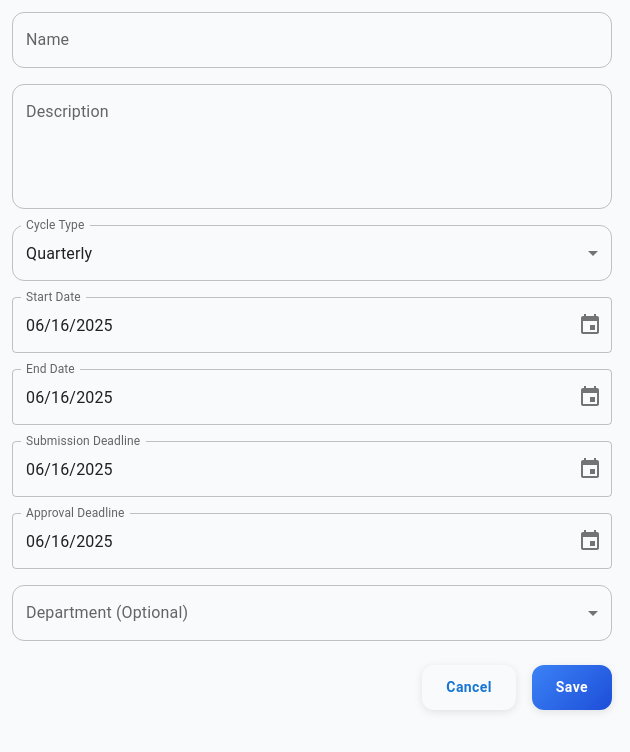
Test: ReviewCycleForm › shows validation errors when submitting empty form
The image size is (630, 752).
Focus the field labelled "Name" at (312, 40), box [12,12,612,68]
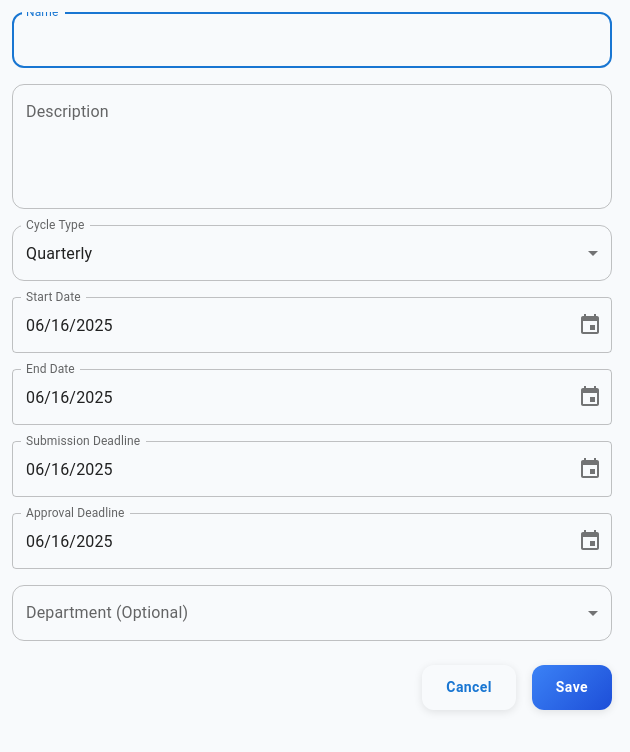
Leave the field labelled "Name", box [12,12,612,68]
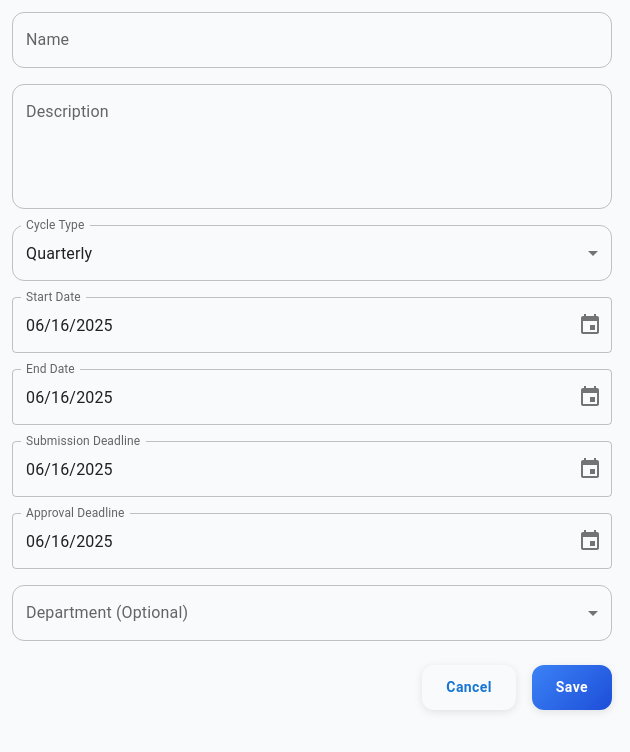
Focus the dropdown named "cycle type" at (59, 253), box [26,244,92,262]
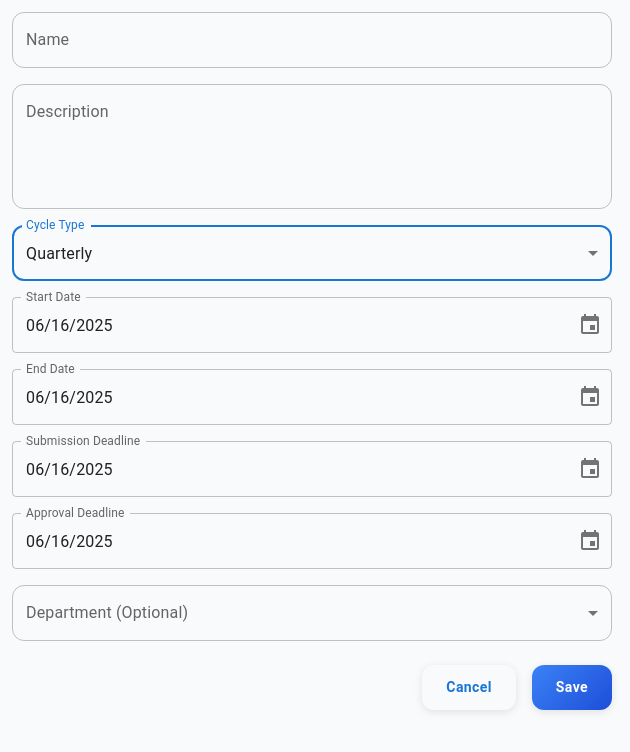
Leave the dropdown named "cycle type", box [26,244,92,262]
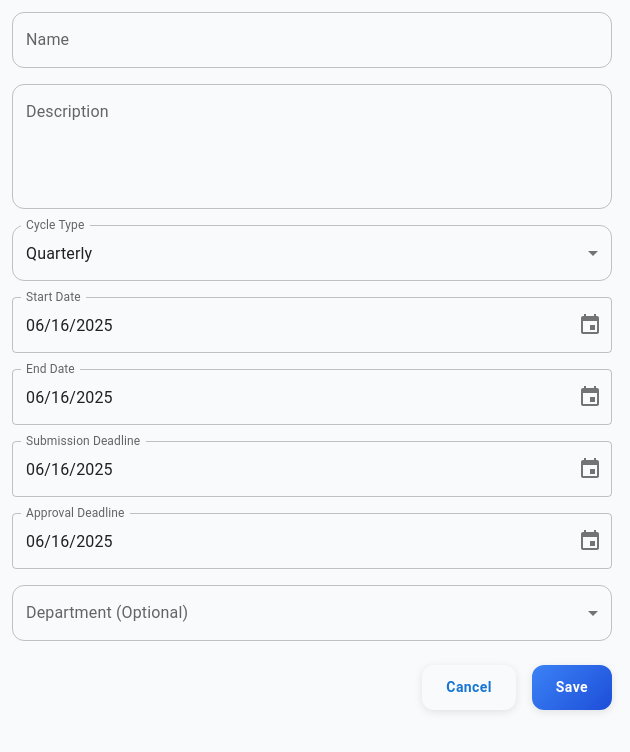
Click the button "Save".
click(572, 687)  # box [532,665,612,710]
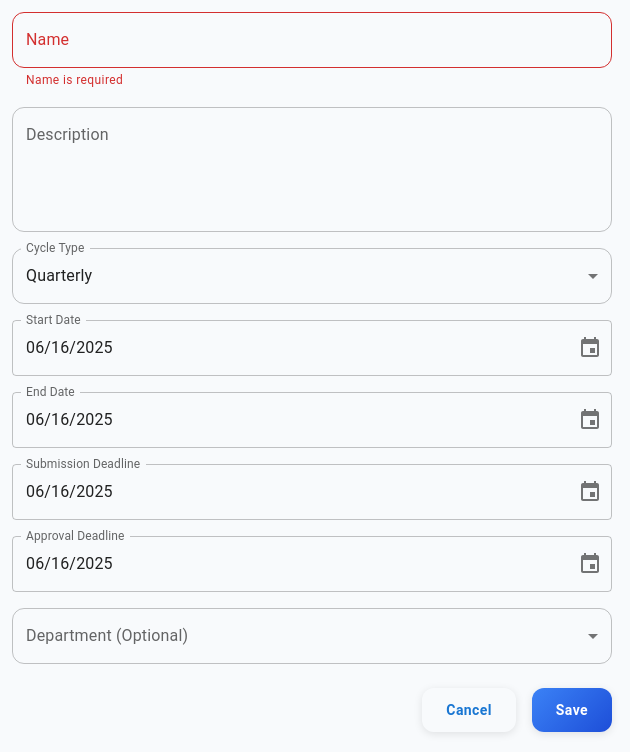
Check: the text "Name is required" is shown, box [26,73,123,87]
